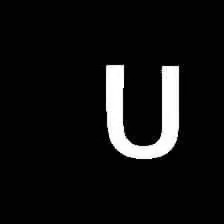LTR_U: (95, 54, 183, 164)
